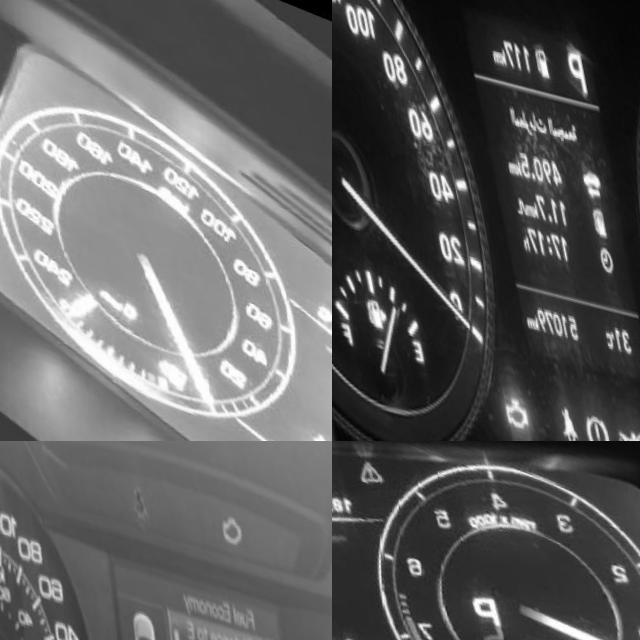Low fuel level: (132, 339, 167, 377)
Seat Belt: (536, 388, 561, 434)
